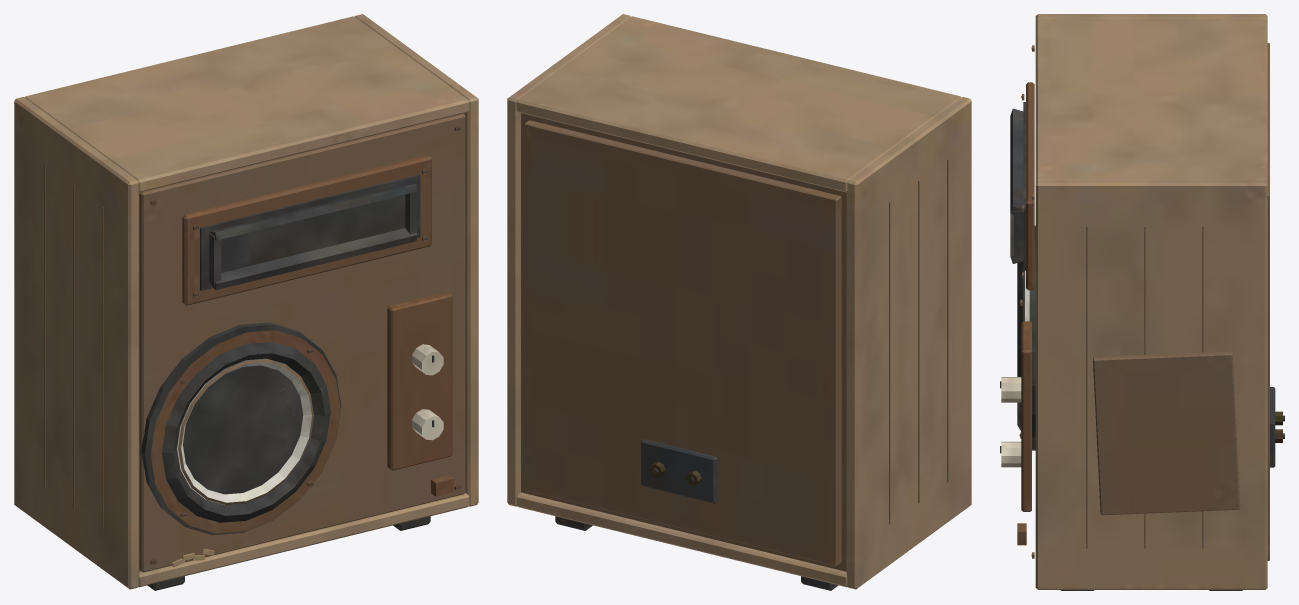
File: Q24_big_speakers_v2.glb
3 views of the same model, side by side, from view 1: azimuth 30°, elevation 25°; view 2: azimuth 150°, elevation 25°; view 3: azimuth 270°, elevation 25° (orthographic).
Visible parts, largest first — view 1: Rubber isolation foot; view 2: Rubber isolation foot; view 3: Rubber isolation foot.
Part boxes in pixels (x1=…): Rubber isolation foot: x1=14, y1=14, x2=478, y2=590; Rubber isolation foot: x1=507, y1=14, x2=971, y2=590; Rubber isolation foot: x1=1000, y1=14, x2=1284, y2=590.
Size of the model in its own units: 0.8775 by 1 by 0.6063.
9 materials, 9 textured.
